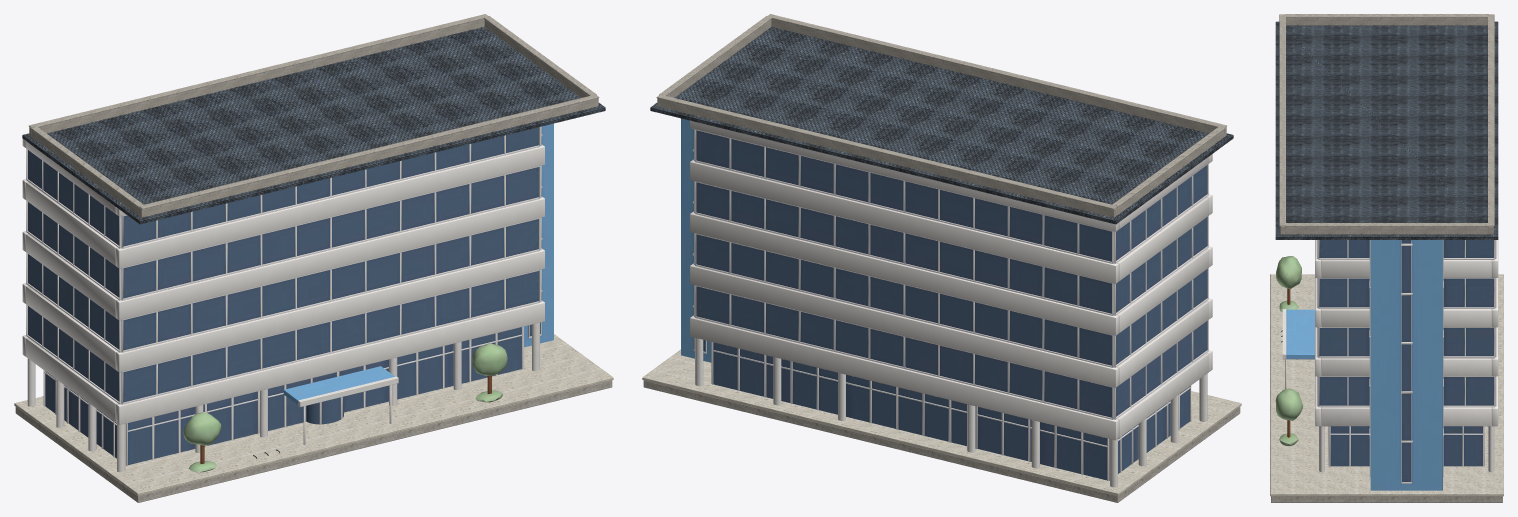
File: ov-bldB.glb
3 views of the same model, side by side, from view 1: azimuth 30°, elevation 25°; view 2: azimuth 150°, elevation 25°; view 3: azimuth 270°, elevation 25° (orthographic). The views are drawn at different scales.
Parts seen in each view (by area): view 1: office-building_facade, bldB_roof_slab, office-building_shell, office-building_body, bldB_plinth_cap, bldB_plinth, bldB_parapet_S, bldB_parapet_N, bldB_parapet_cap_S, bldB_parapet_cap_N, bldB_parapet_W, bldB_parapet_E (+2 smaller); view 2: office-building_facade, office-building_shell, bldB_roof_slab, office-building_body, bldB_plinth_cap, bldB_plinth, bldB_parapet_N, bldB_parapet_S, bldB_parapet_cap_N, bldB_parapet_cap_S, bldB_parapet_W, bldB_parapet_E (+2 smaller); view 3: bldB_roof_slab, office-building_facade, bldB_plinth_cap, office-building_shell, office-building_body, bldB_parapet_E, bldB_parapet_W, bldB_plinth, bldB_parapet_cap_S, bldB_parapet_cap_N, bldB_parapet_cap_E, bldB_parapet_cap_W.
Boxes of the visible parts, bbox=[...] form: office-building_facade: bbox=[26, 123, 553, 404]; bldB_roof_slab: bbox=[22, 27, 605, 224]; office-building_shell: bbox=[22, 139, 544, 424]; office-building_body: bbox=[27, 322, 539, 472]; bldB_plinth_cap: bbox=[14, 334, 613, 495]; bldB_plinth: bbox=[15, 380, 612, 502]; bldB_parapet_S: bbox=[139, 98, 598, 217]; bldB_parapet_N: bbox=[29, 19, 484, 136]; bldB_parapet_cap_S: bbox=[139, 94, 599, 209]; bldB_parapet_cap_N: bbox=[29, 14, 488, 127]; bldB_parapet_W: bbox=[31, 130, 139, 215]; bldB_parapet_E: bbox=[484, 19, 588, 97]; office-building_facade: bbox=[681, 118, 1208, 419]; office-building_shell: bbox=[690, 120, 1212, 440]; bldB_roof_slab: bbox=[650, 27, 1233, 224]; office-building_body: bbox=[695, 338, 1207, 487]; bldB_plinth_cap: bbox=[642, 349, 1241, 495]; bldB_plinth: bbox=[643, 380, 1240, 502]; bldB_parapet_N: bbox=[657, 98, 1116, 217]; bldB_parapet_S: bbox=[771, 19, 1226, 136]; bldB_parapet_cap_N: bbox=[656, 94, 1116, 209]; bldB_parapet_cap_S: bbox=[767, 14, 1226, 127]; bldB_parapet_W: bbox=[1116, 130, 1224, 215]; bldB_parapet_E: bbox=[667, 19, 771, 97]; bldB_roof_slab: bbox=[1275, 21, 1498, 239]; office-building_facade: bbox=[1317, 240, 1496, 490]; bldB_plinth_cap: bbox=[1270, 274, 1503, 496]; office-building_shell: bbox=[1315, 240, 1498, 426]; office-building_body: bbox=[1275, 256, 1494, 472]; bldB_parapet_E: bbox=[1285, 226, 1488, 234]; bldB_parapet_W: bbox=[1286, 17, 1487, 25]; bldB_plinth: bbox=[1271, 496, 1502, 502]; bldB_parapet_cap_S: bbox=[1279, 14, 1285, 226]; bldB_parapet_cap_N: bbox=[1488, 14, 1494, 226]; bldB_parapet_cap_E: bbox=[1285, 223, 1488, 226]; bldB_parapet_cap_W: bbox=[1285, 14, 1488, 17].
Bounding box in the file's own units: 32.7 × 19 × 14.7.
6 materials, 6 textured.
